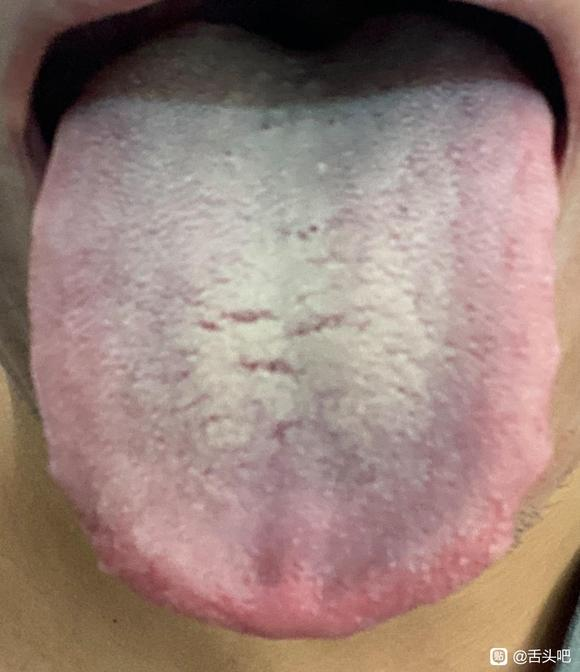baitaishe: (30, 21, 562, 637)
chihenshe: (32, 372, 103, 564), (511, 348, 560, 549)
liewenshe: (174, 293, 347, 440)
